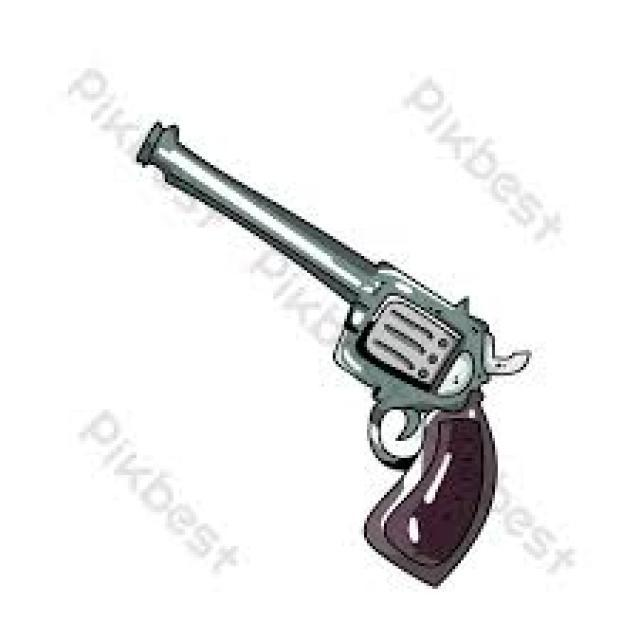semi automatic: (119, 104, 544, 596)
